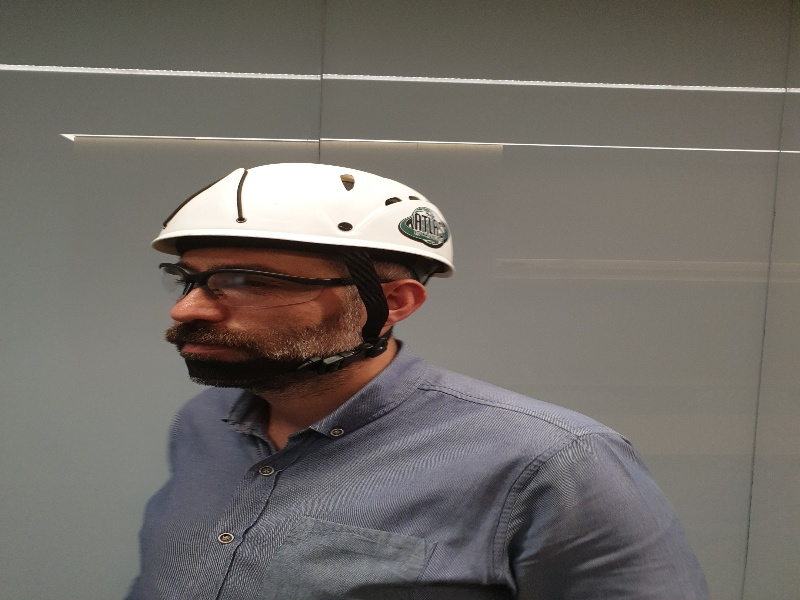Baret: (146, 163, 455, 274)
Gozluk: (160, 262, 380, 302)
